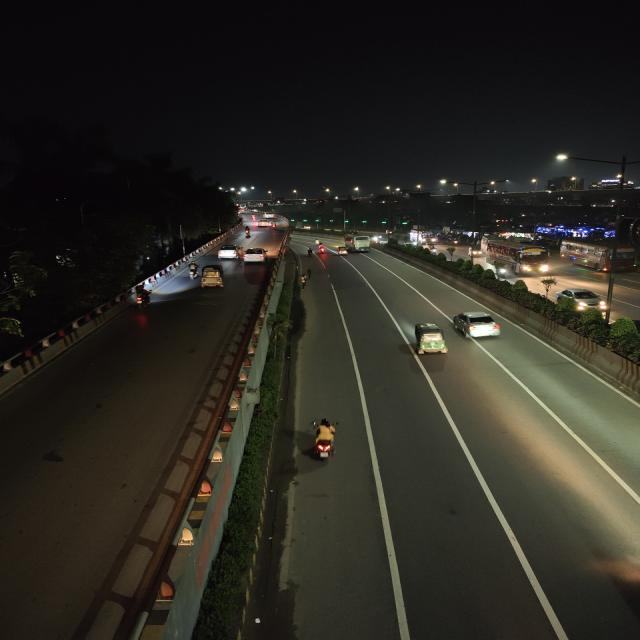bus: (560, 238, 637, 274), (486, 239, 552, 276), (412, 230, 436, 246), (349, 236, 371, 252)
car: (450, 308, 502, 342), (559, 287, 608, 314), (241, 246, 270, 264), (216, 244, 241, 260), (256, 218, 270, 228)
cng: (408, 320, 451, 360), (197, 264, 226, 288), (336, 245, 348, 257)
motorcycle: (299, 416, 345, 464), (129, 284, 154, 310), (187, 260, 198, 283), (242, 228, 253, 240), (316, 244, 328, 254)
pedestrian: (297, 274, 310, 290)
